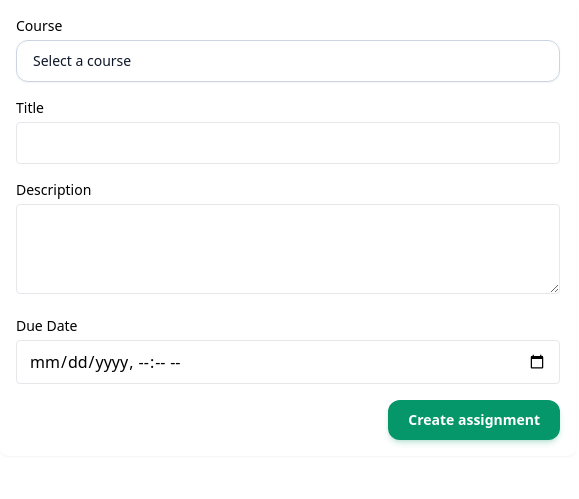
CreateAssignmentForm › shows validation error "Please select a course and enter a title." when submitted empty (FR7)
Expected: the dropdown is shown, [16,40,560,82]
What coordinates should you click on to do the following:
click the button "Create assignment"
I would click on:
 (474, 420)
Its box is [388,400,560,440].
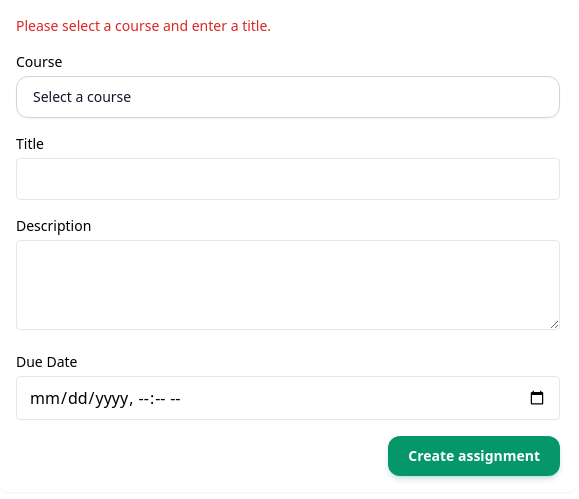
Expected: the text "Please select a course and enter a title." is shown, [16,16,271,35]
